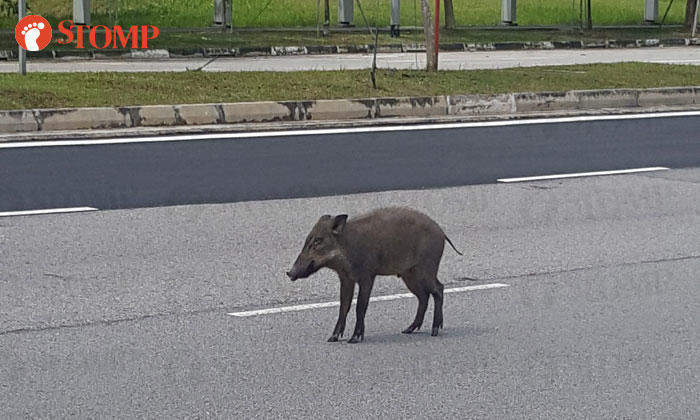boar: (280, 198, 466, 355)
